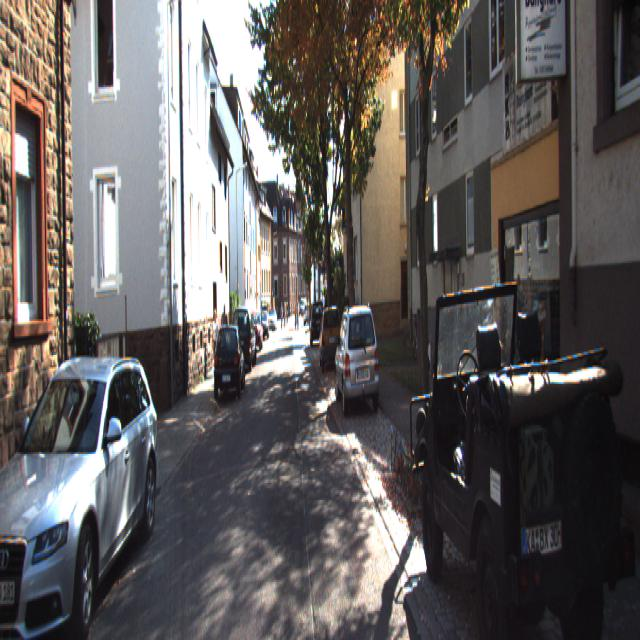Car: (408, 246, 640, 638), (0, 346, 162, 639), (332, 310, 381, 424), (209, 322, 246, 402), (229, 306, 256, 375), (318, 306, 342, 375), (308, 301, 326, 348), (247, 308, 264, 352)
